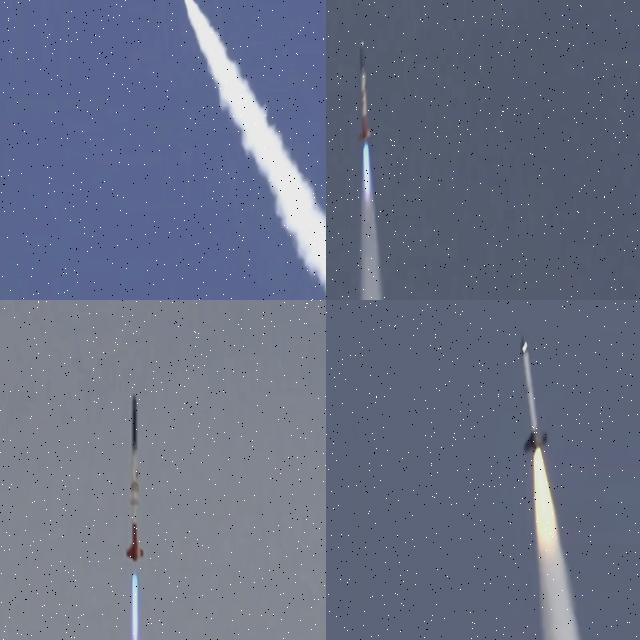Rocket: (126, 390, 144, 580), (521, 337, 548, 455), (358, 41, 372, 149)
